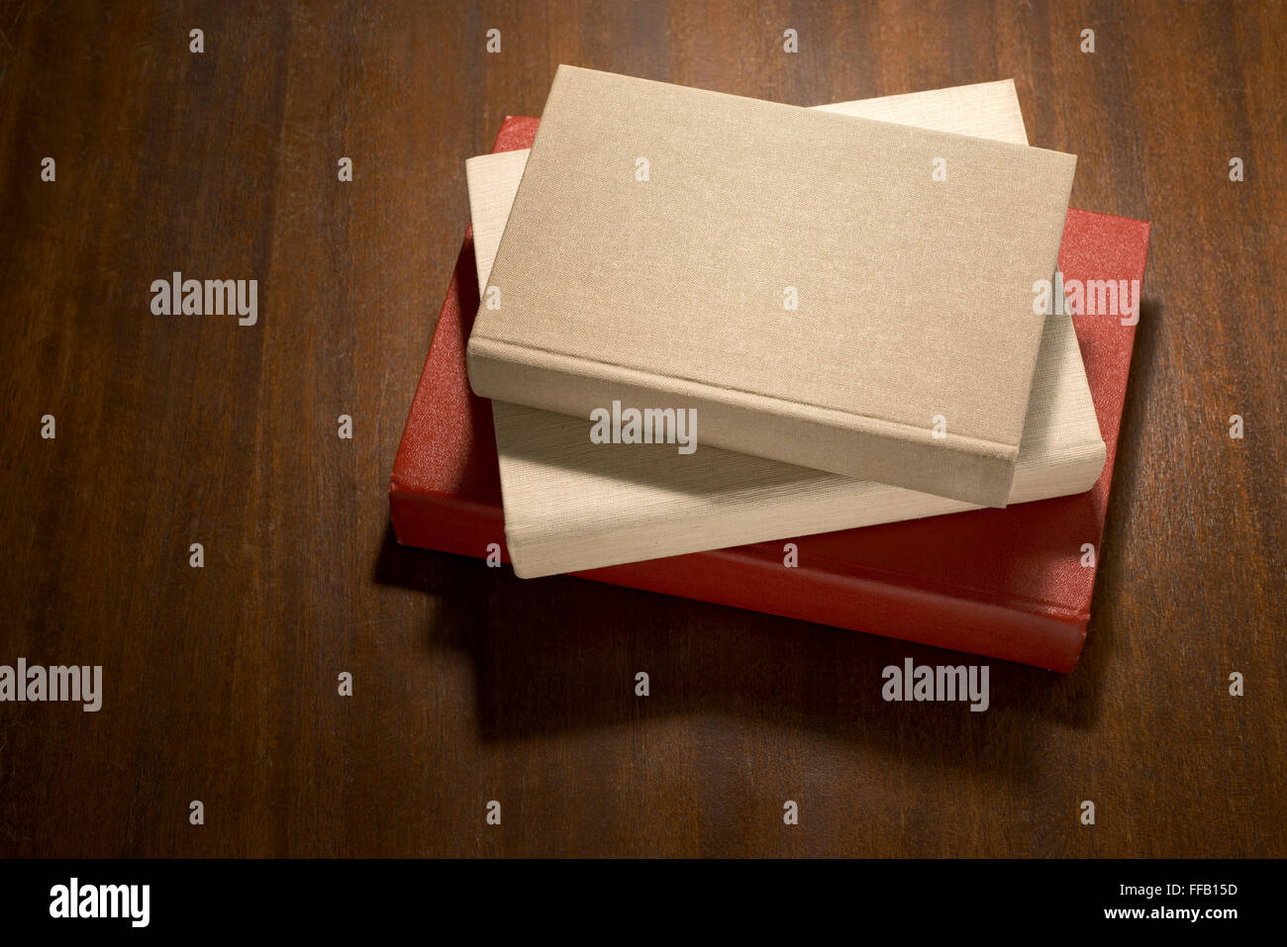not a gesture sign: (467, 65, 1075, 505), (467, 65, 1075, 503)
